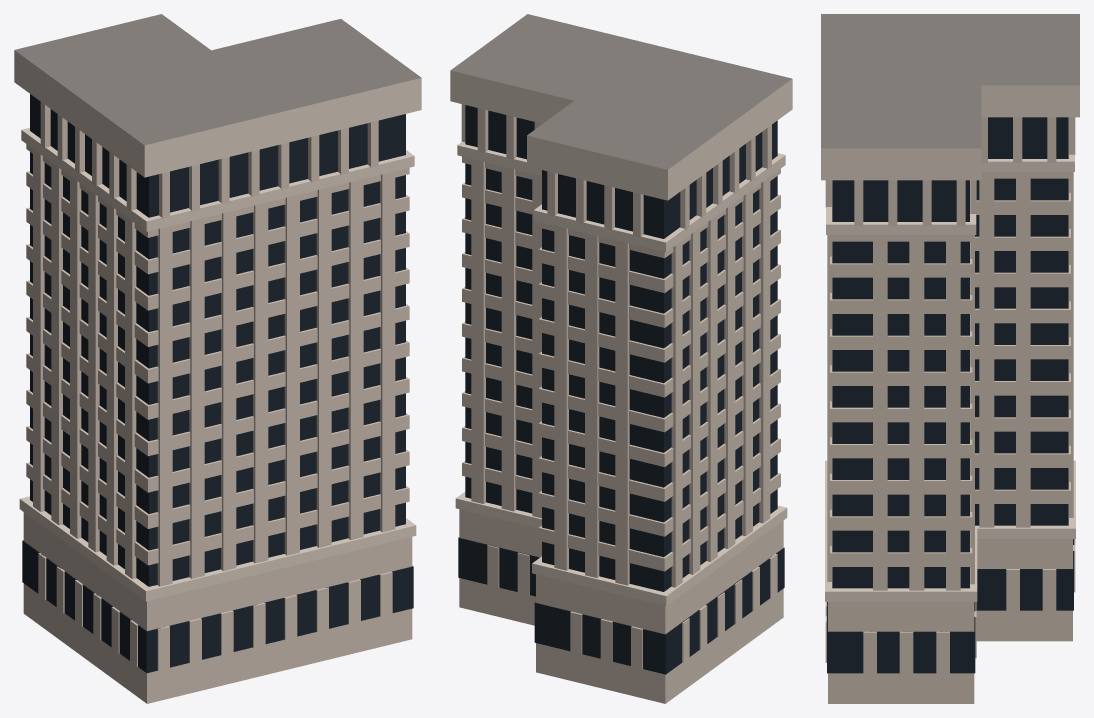
Rendered from deseret_building.glb.
3 views of the same model, side by side, from view 1: azimuth 30°, elevation 25°; view 2: azimuth 150°, elevation 25°; view 3: azimuth 270°, elevation 25° (orthographic). The views are drawn at different scales.
Parts seen in each view (by area): view 1: Deseret_Building; view 2: Deseret_Building; view 3: Deseret_Building.
Boxes of the visible parts, x1,y1,x2,y2 form: Deseret_Building: (14,14,421,703); Deseret_Building: (450,14,792,703); Deseret_Building: (821,14,1079,703).
Size of the model in its own units: 27.89 by 54.1 by 22.73.
